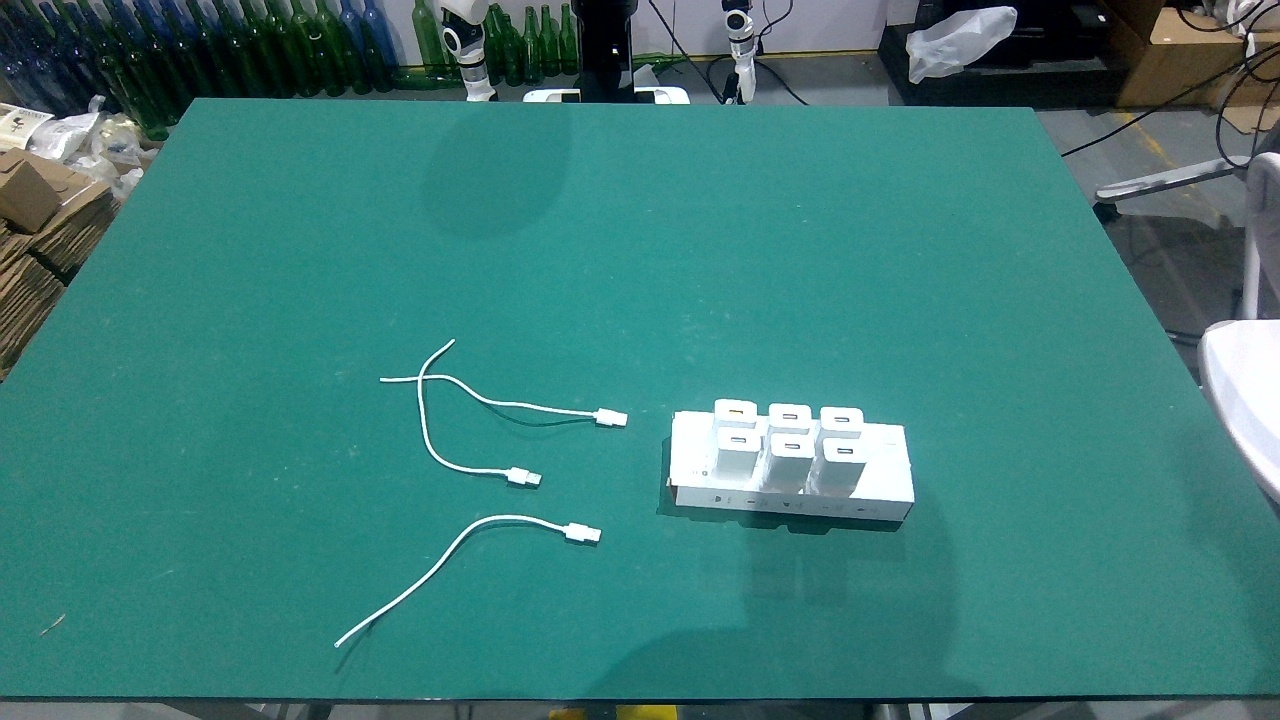usb_a_port: (725, 404, 749, 418), (729, 434, 750, 447), (781, 440, 802, 453), (832, 413, 853, 426), (835, 443, 856, 456), (781, 411, 800, 423)
